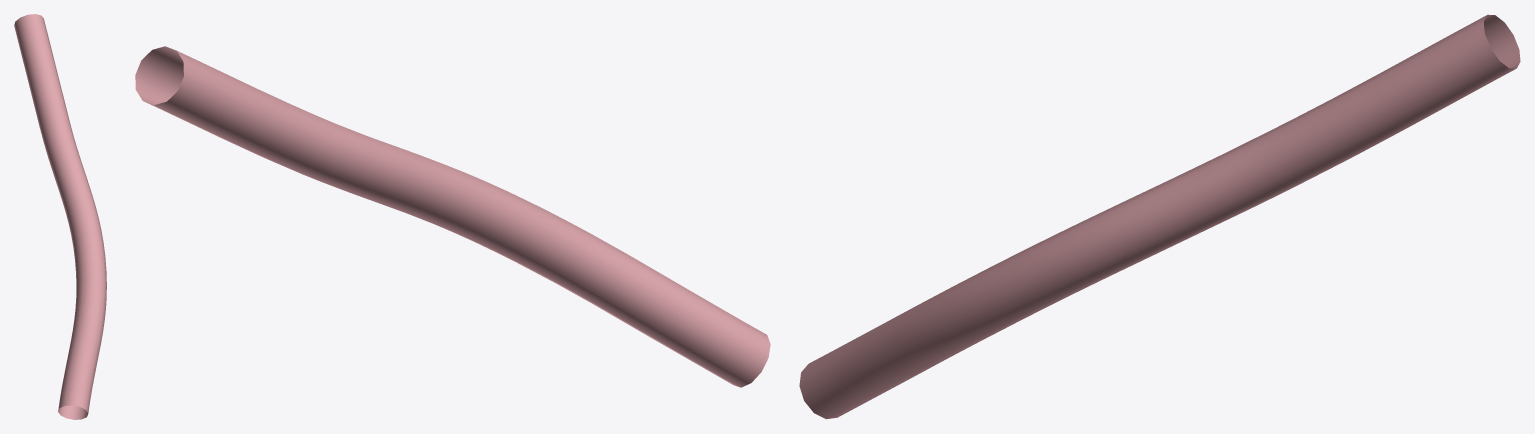
Rendered from visceras-ejaculatory-duct-l.glb.
3 renders of one model, left to right at view 1: azimuth 30°, elevation 25°; view 2: azimuth 150°, elevation 25°; view 3: azimuth 270°, elevation 25°, orthographic. The views are drawn at different scales.
Parts seen in each view (by area): view 1: Ejaculatory duct.l; view 2: Ejaculatory duct.l; view 3: Ejaculatory duct.l.
Boxes of the visible parts, x1,y1,x2,y2 form: Ejaculatory duct.l: (14, 14, 106, 419); Ejaculatory duct.l: (135, 46, 770, 387); Ejaculatory duct.l: (799, 14, 1520, 419).
Size of the model in its own units: 0.00904 by 0.0149 by 0.0188.
